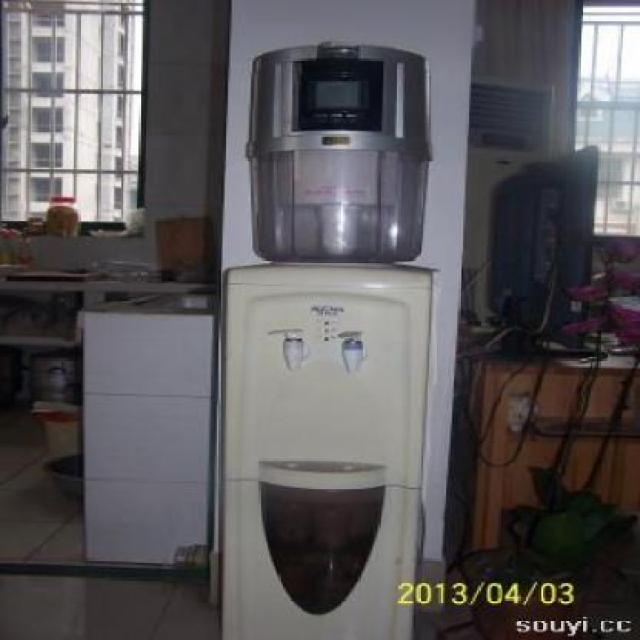cooler: (220, 35, 437, 640)
